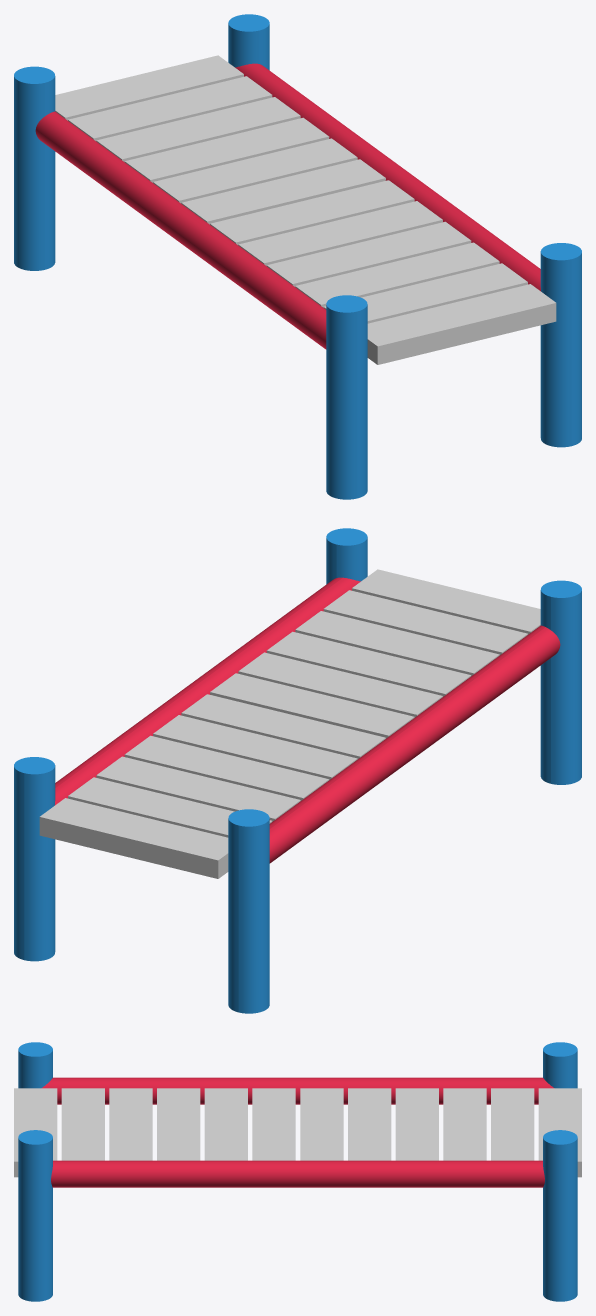
Rendered from Bridge.fbx.
3 views of the same model, one above another, from view 1: azimuth 30°, elevation 25°; view 2: azimuth 150°, elevation 25°; view 3: azimuth 270°, elevation 25° (orthographic). The views are drawn at different scales.
Parts seen in each view (by area): view 1: Cube; view 2: Cube; view 3: Cube.
Boxes of the visible parts, x1=… form: Cube: x1=14, y1=14, x2=581, y2=499; Cube: x1=14, y1=528, x2=581, y2=1013; Cube: x1=14, y1=1042, x2=581, y2=1301.
Bounding box in the file's own units: 280 × 200 × 655.
